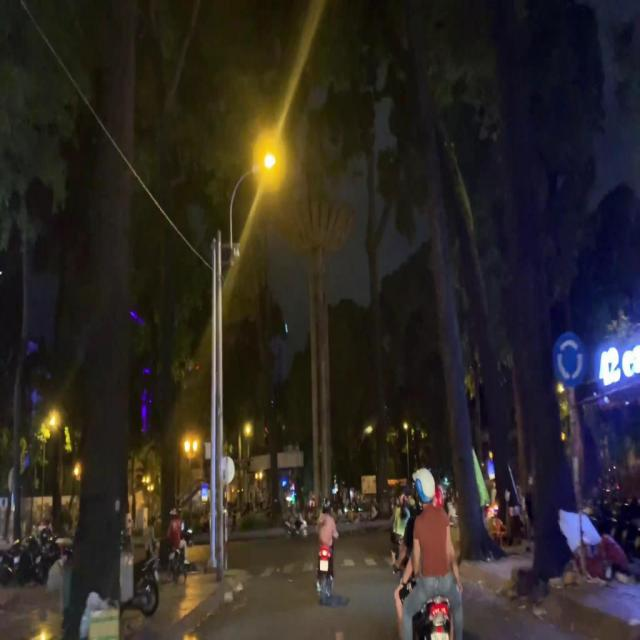noi_giao_nhau_chay_theo_vong: (551, 330, 588, 389)
